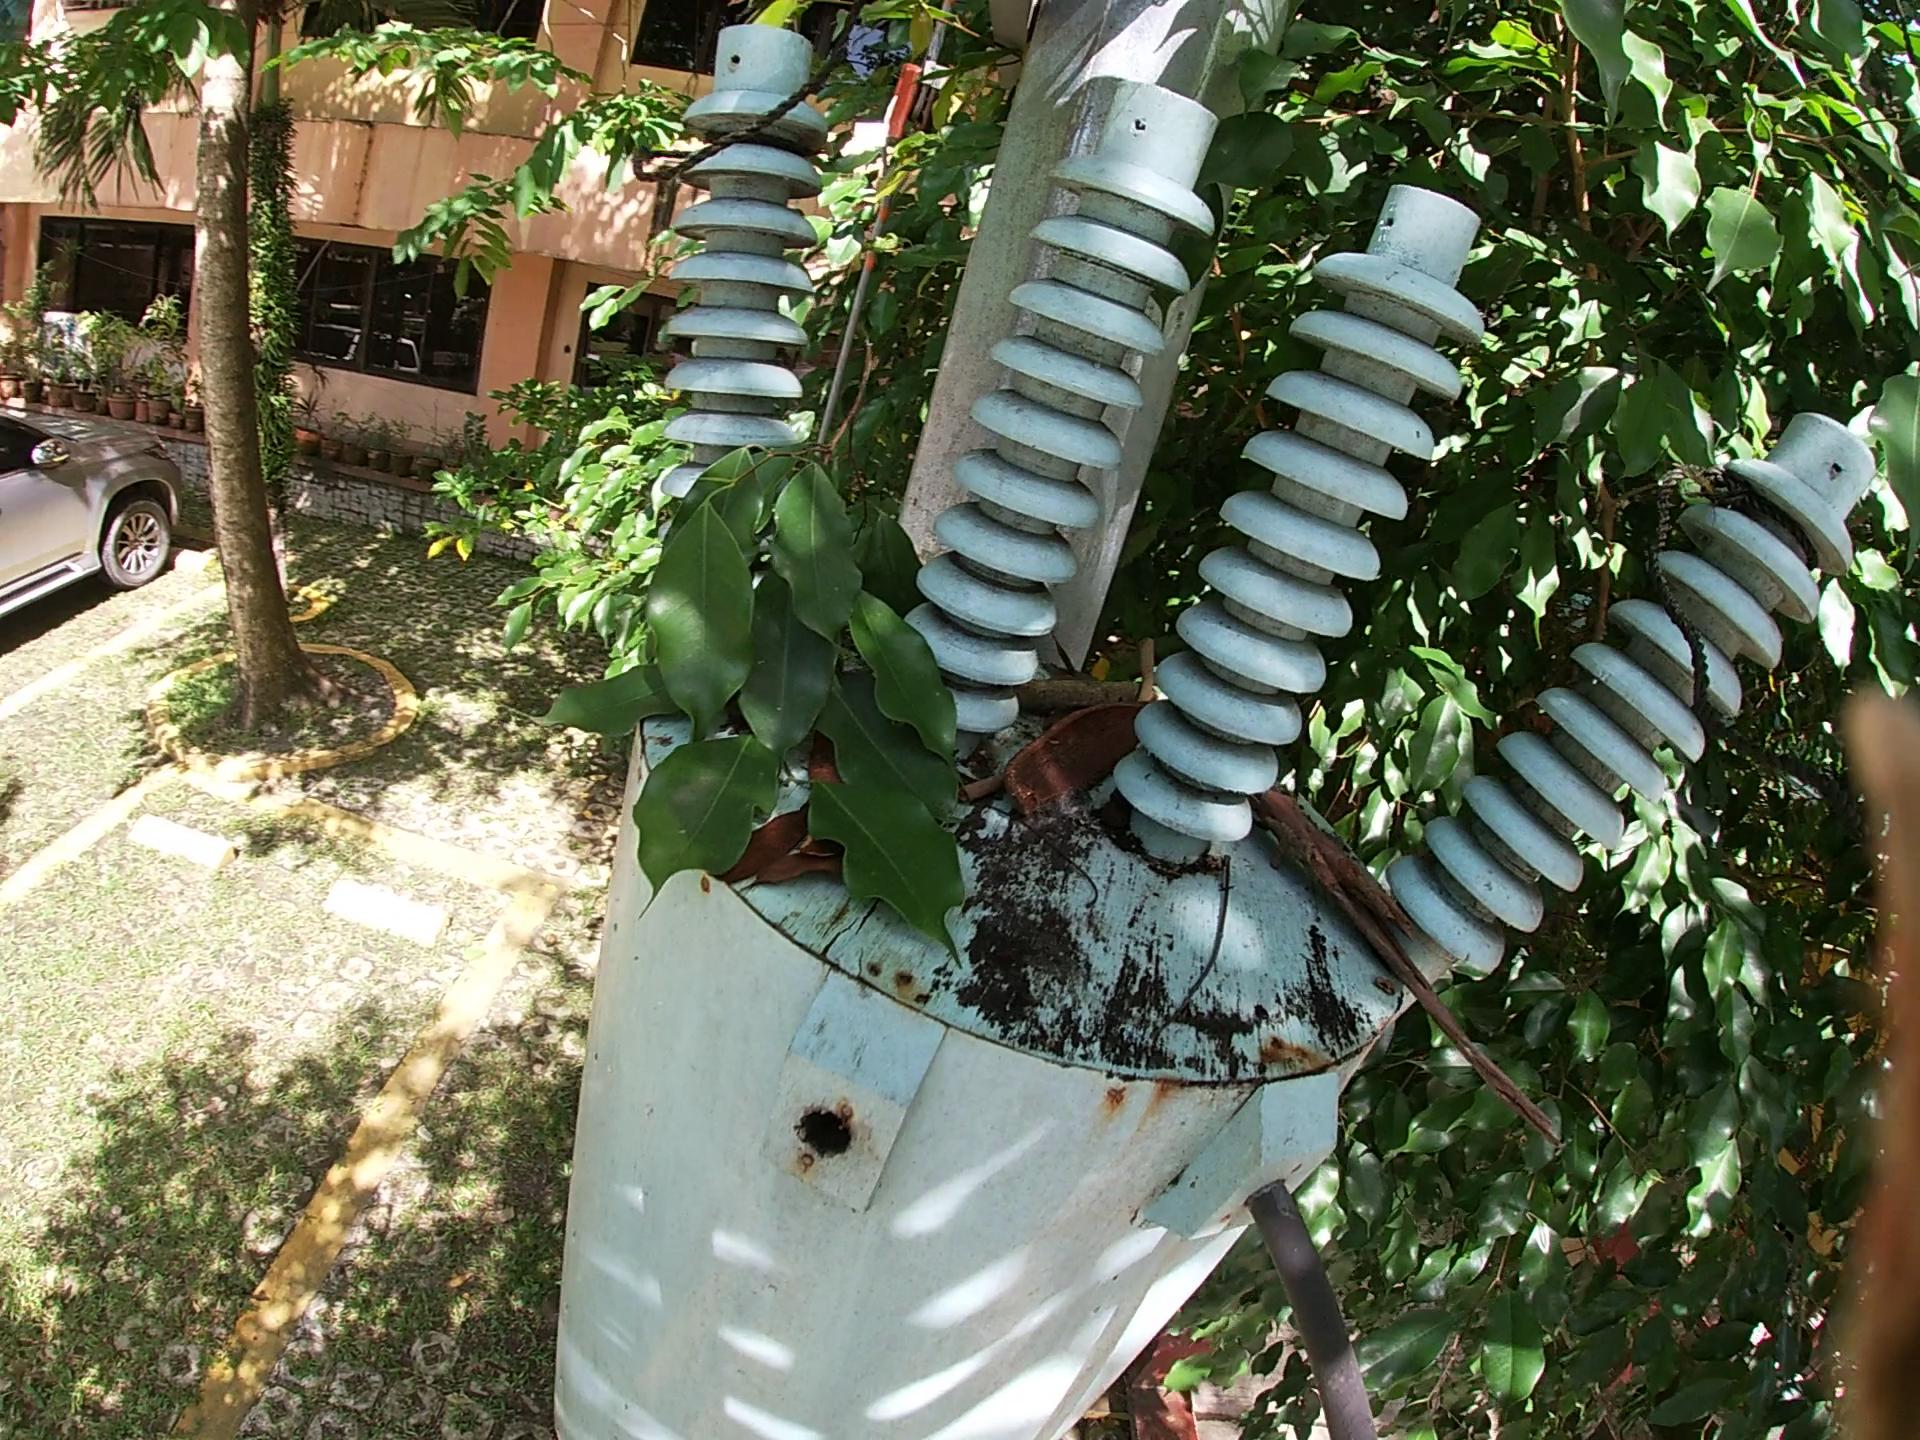branch with leaves: (519, 281, 989, 974)
mahogany fruit: (701, 758, 848, 898), (1002, 696, 1154, 830), (809, 735, 845, 799)
tree branch: (1249, 771, 1584, 1159), (1164, 829, 1238, 1042), (1008, 809, 1108, 923), (1011, 669, 1138, 711), (955, 764, 1008, 805), (1129, 625, 1150, 703)
